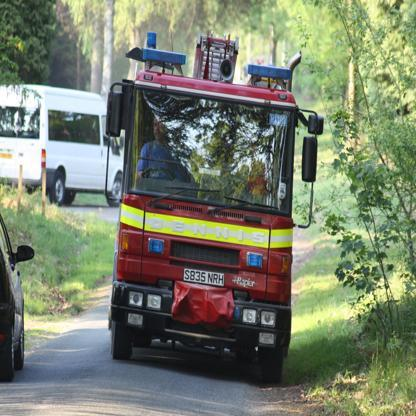fire-truck: (78, 18, 341, 391)
